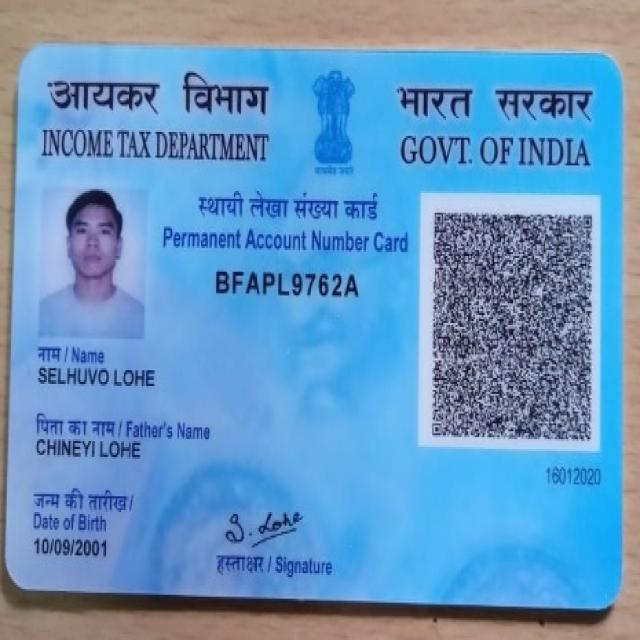pan_card: (18, 44, 613, 600)
